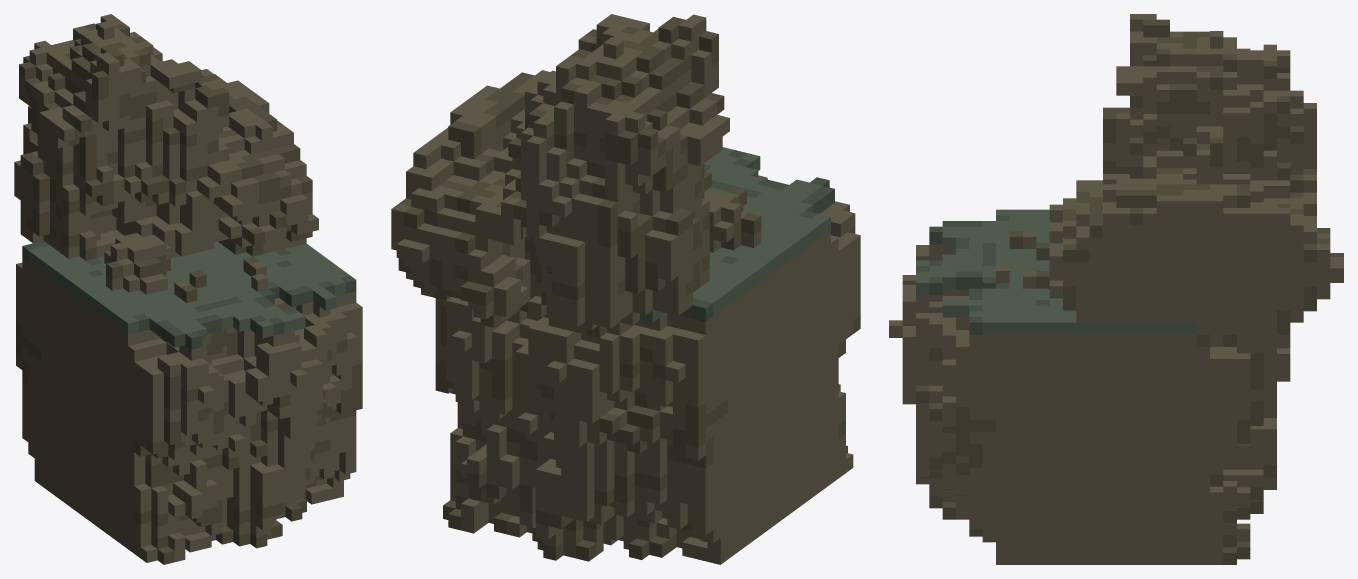
Rendered from mountain_1_lo.obj.
The picture shows the model from 3 angles, left to right: view 1: azimuth 30°, elevation 25°; view 2: azimuth 150°, elevation 25°; view 3: azimuth 270°, elevation 25°; orthographic projection. The views are drawn at different scales.
Visible parts, largest first — view 1: mountain_1_lo; view 2: mountain_1_lo; view 3: mountain_1_lo.
Boxes of the visible parts, <box> form: mountain_1_lo: <box>14,14,362,564</box>; mountain_1_lo: <box>391,14,860,564</box>; mountain_1_lo: <box>889,14,1343,564</box>.
Size of the model in its own units: 4 by 7.6 by 6.8.
1 material, 1 textured.
